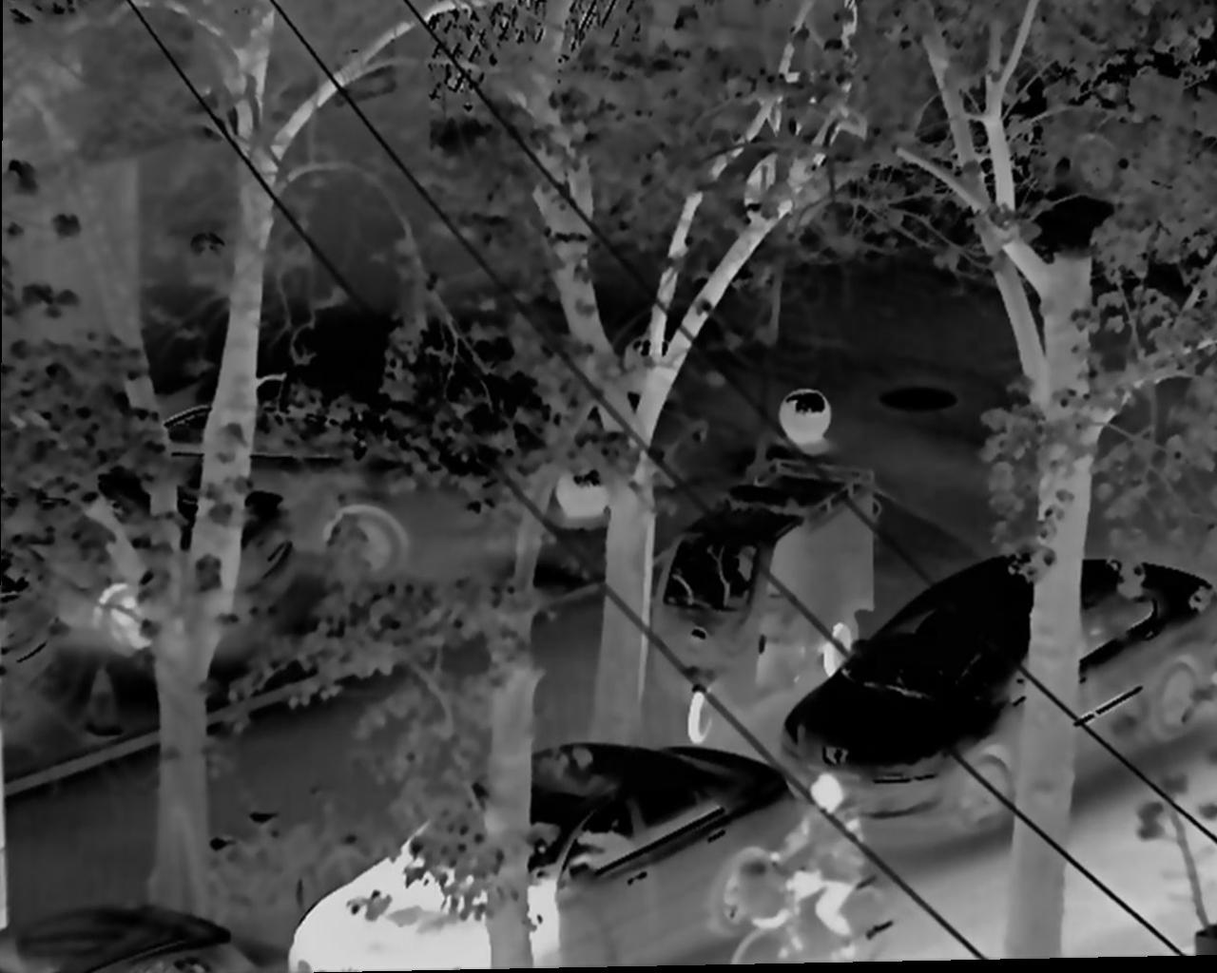person: (761, 767, 875, 953)
